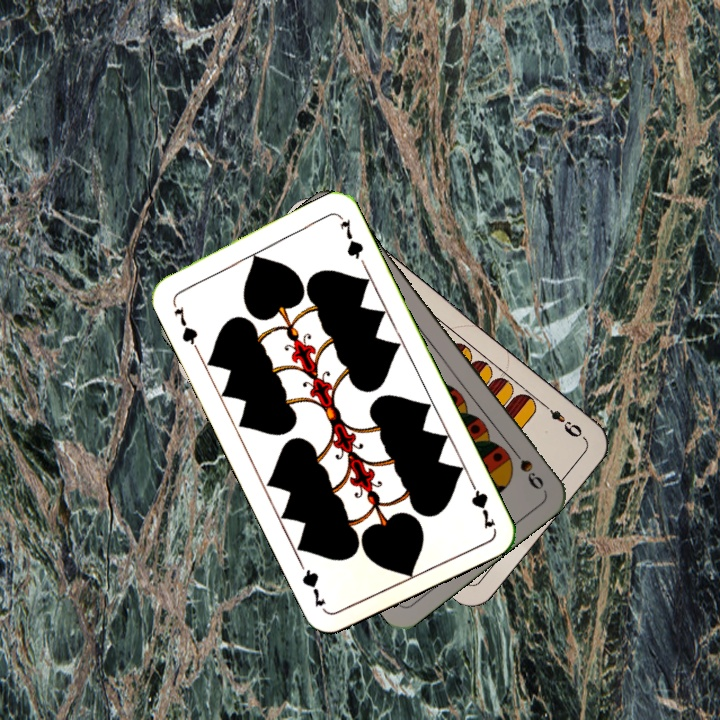E9: (538, 398, 585, 441)
G7: (464, 474, 498, 532), (168, 296, 201, 352)
S9: (505, 441, 547, 493)
